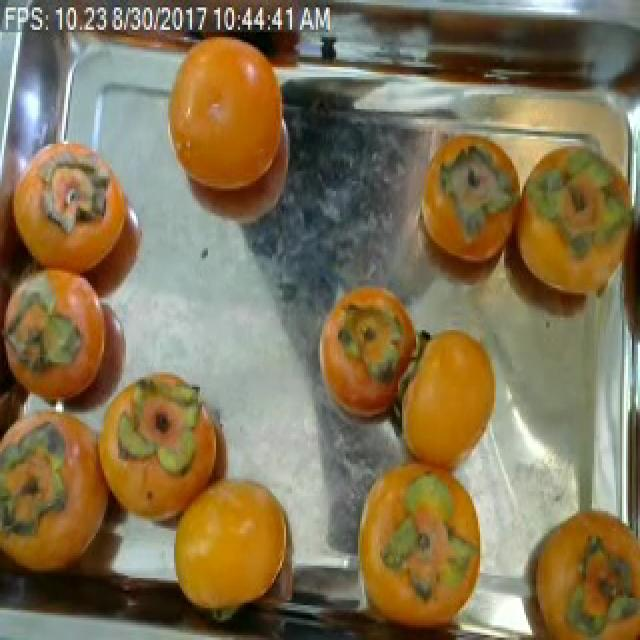Fruit: (150, 12, 288, 236), (156, 454, 310, 637), (386, 312, 510, 493), (306, 270, 428, 442), (108, 357, 242, 504), (514, 493, 640, 640)
